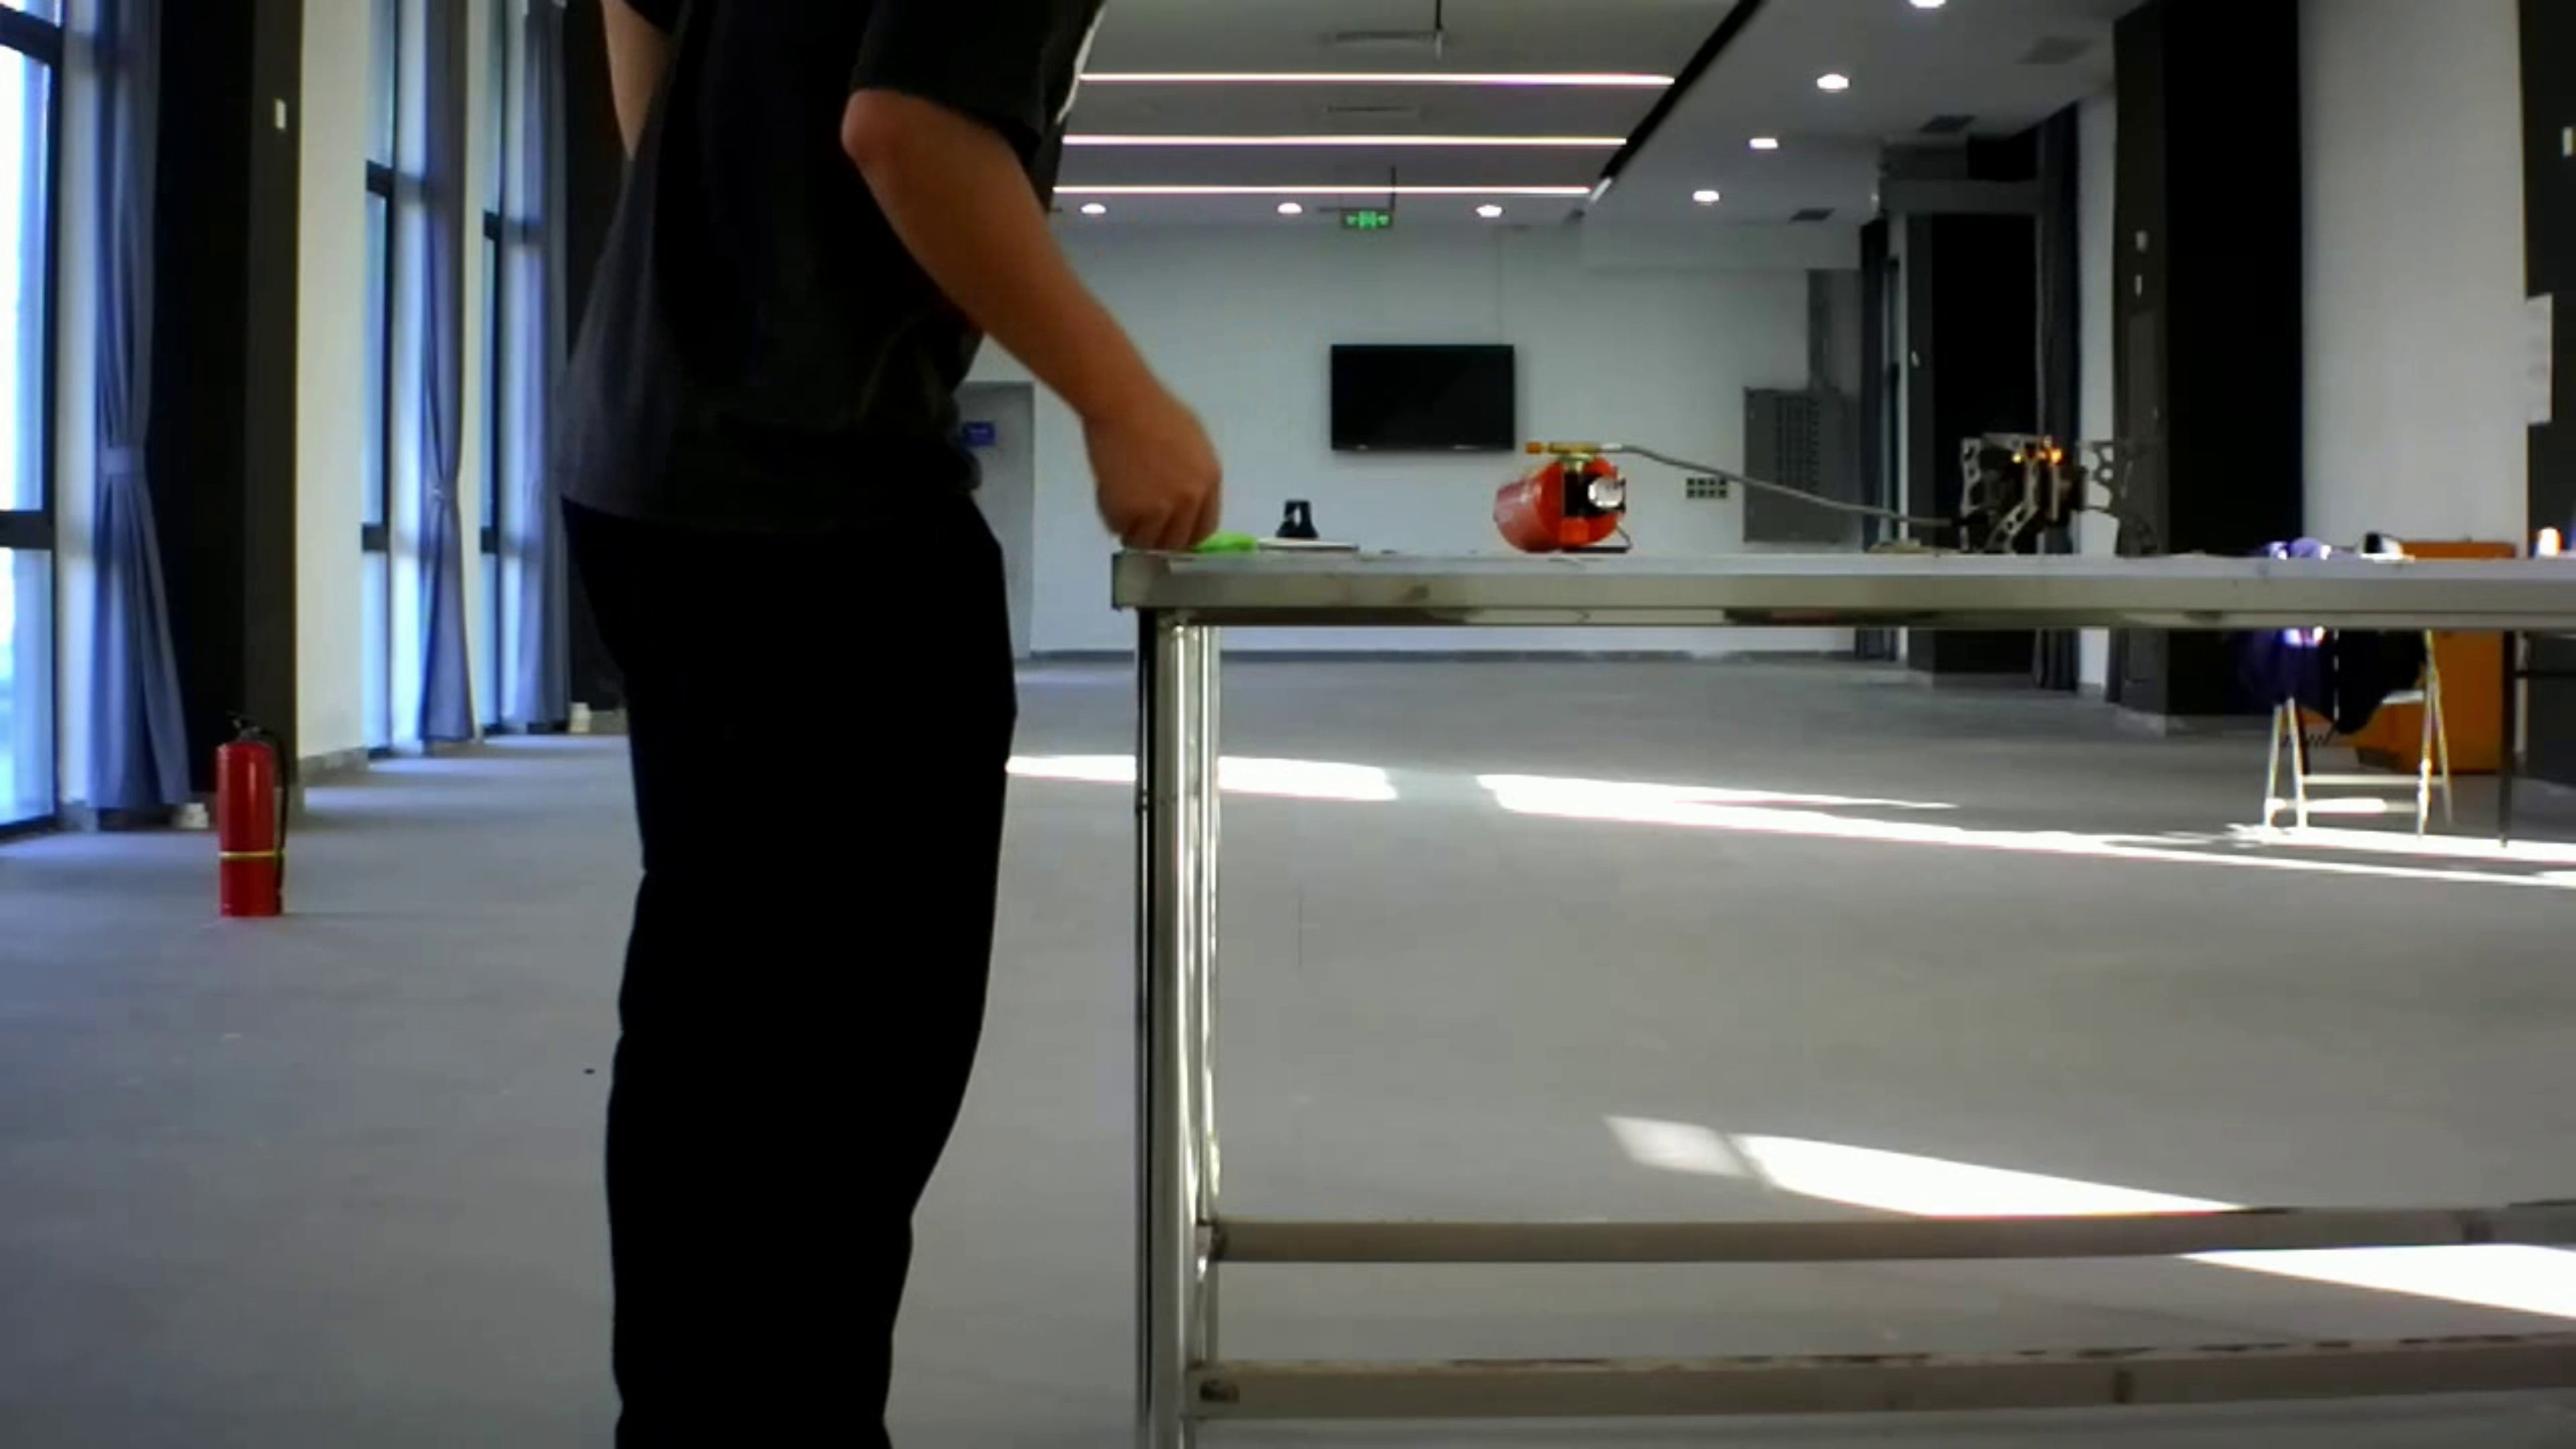Fire: (1987, 410, 2093, 485)
